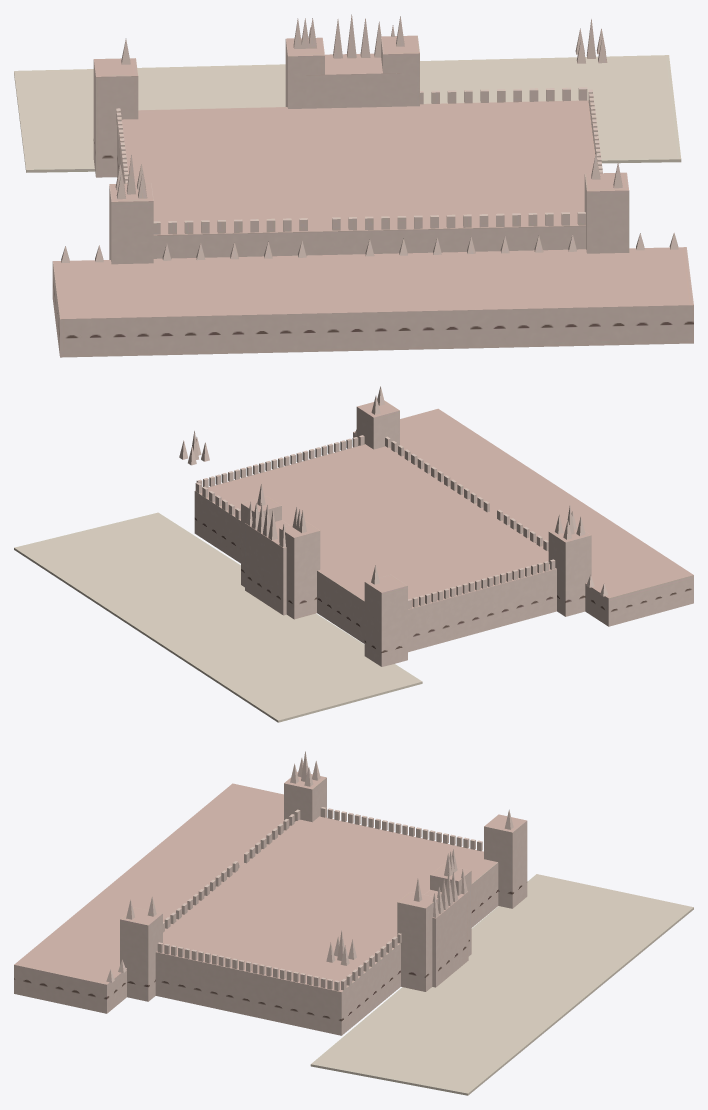
The model's file is lm_grand_marche.glb.
The picture shows the model from 3 angles, top to bottom: view 1: azimuth 30°, elevation 25°; view 2: azimuth 150°, elevation 25°; view 3: azimuth 270°, elevation 25°; orthographic projection. The views are drawn at different scales.
Visible parts, largest first — view 1: LM_Grand_Marche; view 2: LM_Grand_Marche; view 3: LM_Grand_Marche.
Boxes of the visible parts, box(x1,y1,x2,y2) form: LM_Grand_Marche: box(14, 14, 693, 357); LM_Grand_Marche: box(14, 386, 693, 722); LM_Grand_Marche: box(14, 751, 693, 1095).
Bounding box in the file's own units: 0.3446 × 0.0627 × 0.35.
Materials: 1 (1 with a texture image).
